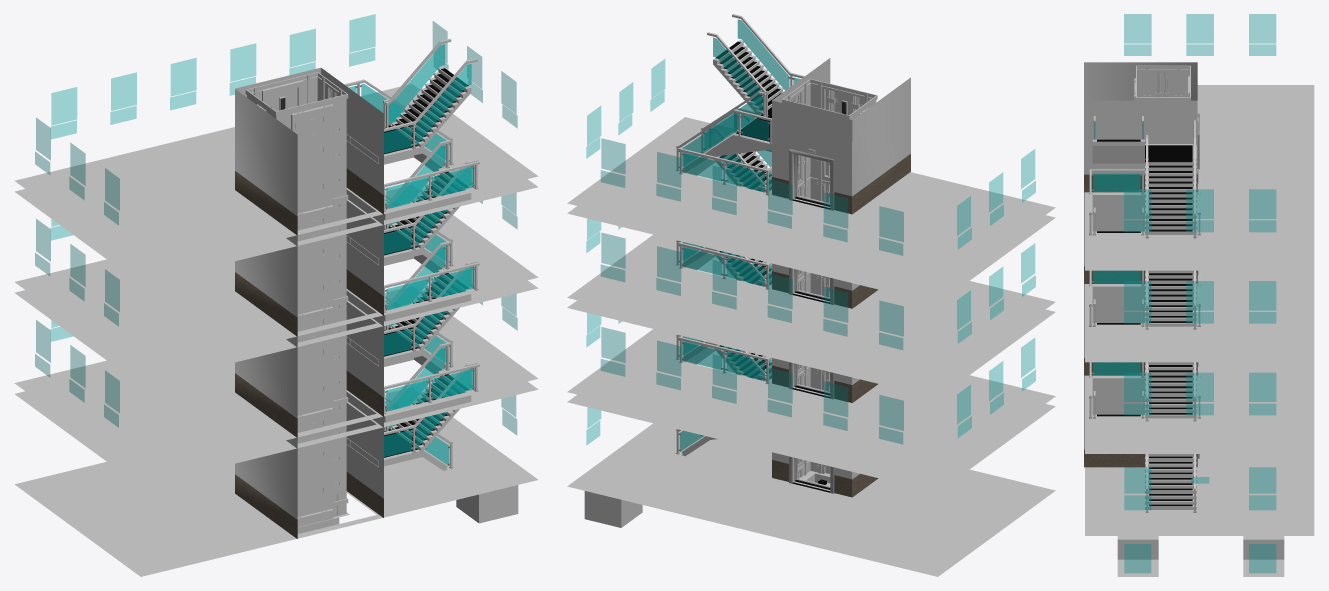
Rendered from Building07_V01_Interior01.fbx.
3 views of the same model, side by side, from view 1: azimuth 30°, elevation 25°; view 2: azimuth 150°, elevation 25°; view 3: azimuth 270°, elevation 25° (orthographic). The views are drawn at different scales.
Visible parts, largest first — view 1: Building07_V01_Interior01; view 2: Building07_V01_Interior01; view 3: Building07_V01_Interior01.
Part boxes in pixels (bbox=[...]): Building07_V01_Interior01: bbox=[14, 14, 538, 576]; Building07_V01_Interior01: bbox=[567, 14, 1055, 576]; Building07_V01_Interior01: bbox=[1084, 14, 1314, 576].
Size of the model in its own units: 1671 by 1913 by 925.
